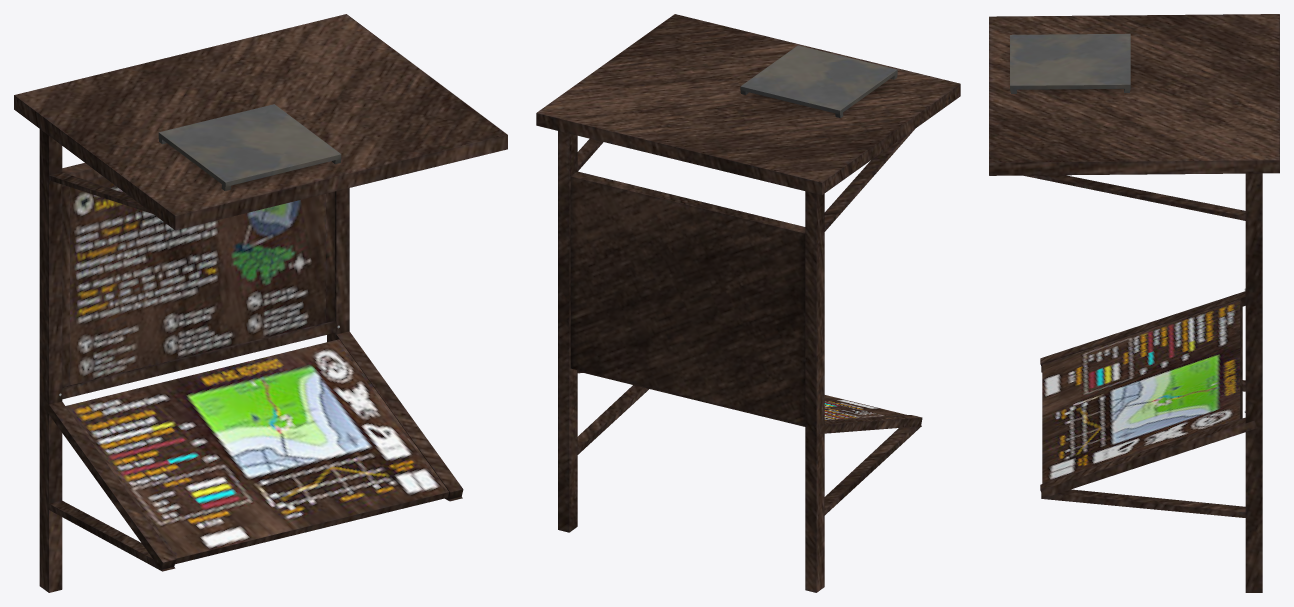
The model's file is tablero-informativo.glb.
3 views of the same model, side by side, from view 1: azimuth 30°, elevation 25°; view 2: azimuth 150°, elevation 25°; view 3: azimuth 270°, elevation 25° (orthographic). The views are drawn at different scales.
Parts seen in each view (by area): view 1: Mesh_0; view 2: Mesh_0; view 3: Mesh_0.
Boxes of the visible parts, box(x1,y1,x2,y2) form: Mesh_0: box(14, 14, 507, 592); Mesh_0: box(536, 14, 960, 592); Mesh_0: box(989, 14, 1279, 592).
Bounding box in the file's own units: 8.77 × 12.5 × 7.37.
Materials: 11 (11 with a texture image).
